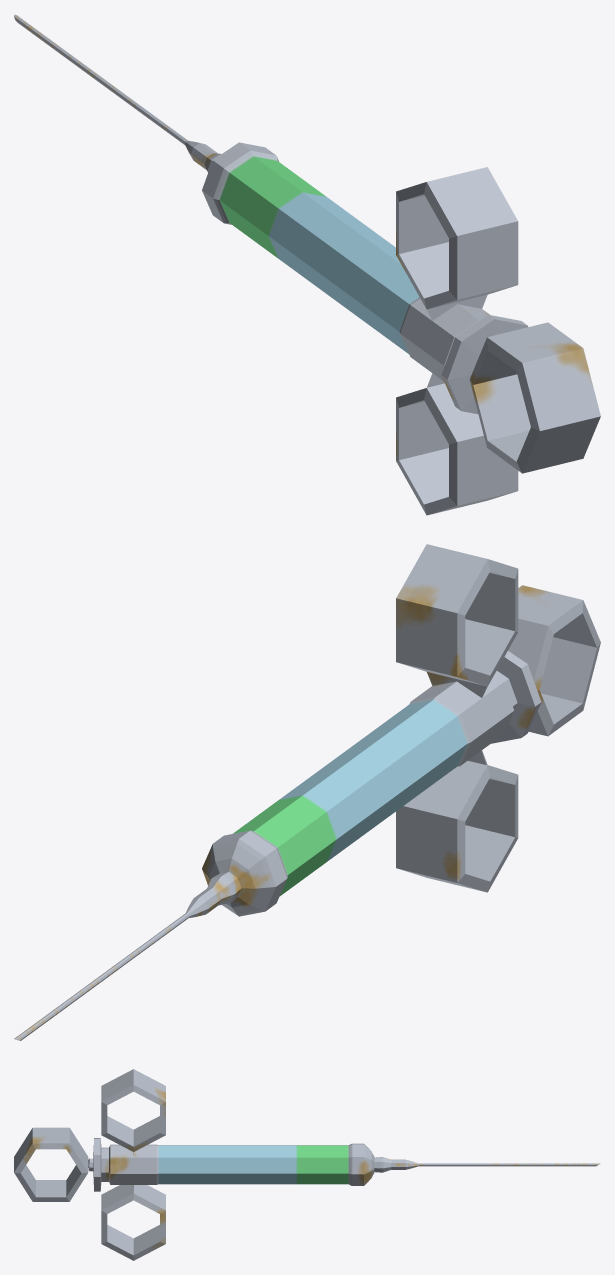
Rendered from Syringe.fbx.
3 renders of one model, top to bottom at view 1: azimuth 30°, elevation 25°; view 2: azimuth 150°, elevation 25°; view 3: azimuth 270°, elevation 25°, orthographic. The views are drawn at different scales.
Parts seen in each view (by area): view 1: Syringe; view 2: Syringe; view 3: Syringe.
Part boxes in pixels (x1,y1,x2,y2): Syringe: [14, 14, 600, 515]; Syringe: [14, 544, 600, 1040]; Syringe: [14, 1069, 600, 1260].
Size of the model in its own units: 6.97 by 23.67 by 71.45.
1 material, 1 textured.
